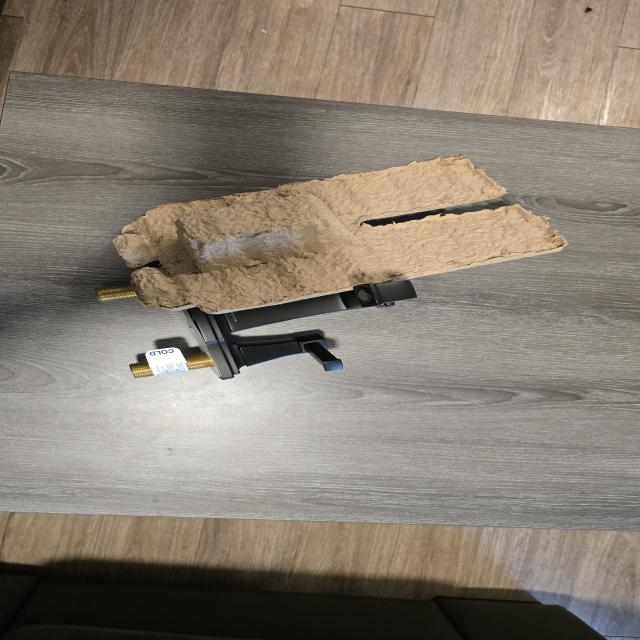9o: (130, 280, 417, 379), (96, 285, 137, 302)
